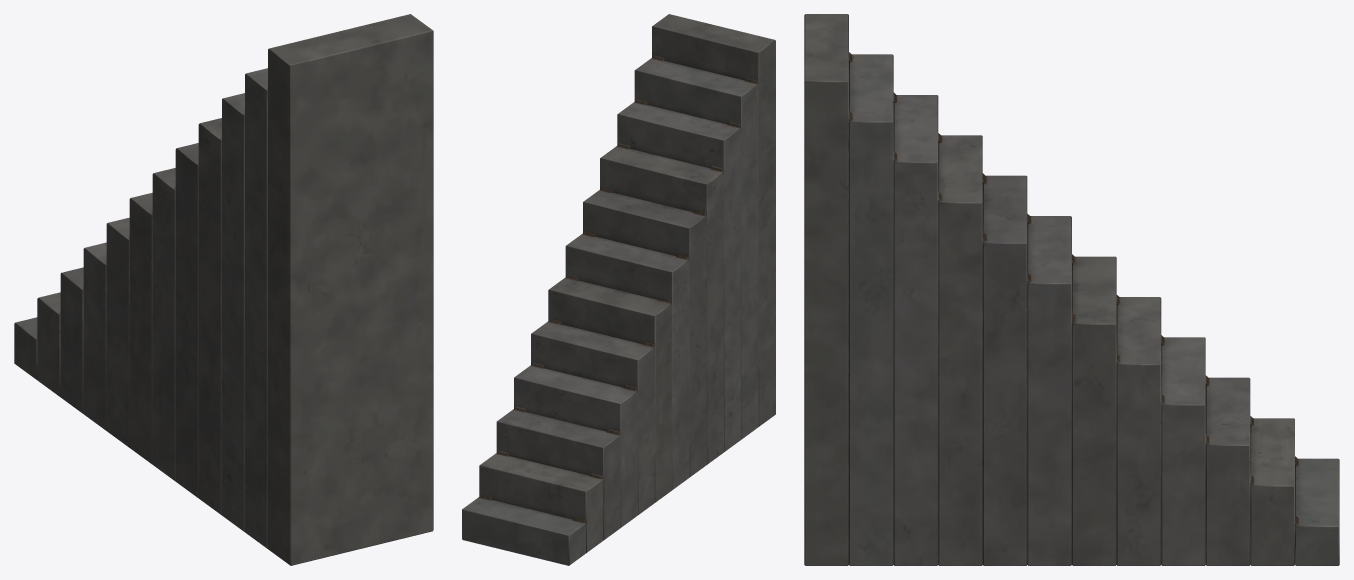
File: stairs.glb
3 views of the same model, side by side, from view 1: azimuth 30°, elevation 25°; view 2: azimuth 150°, elevation 25°; view 3: azimuth 270°, elevation 25° (orthographic). The views are drawn at different scales.
Visible parts, largest first — view 1: stairs; view 2: stairs; view 3: stairs.
Boxes of the visible parts, x1=… form: stairs: x1=14, y1=14, x2=433, y2=565; stairs: x1=462, y1=14, x2=775, y2=565; stairs: x1=804, y1=14, x2=1339, y2=565.
Bounding box in the file's own units: 0.9 × 3 × 3.
1 material, 1 textured.
